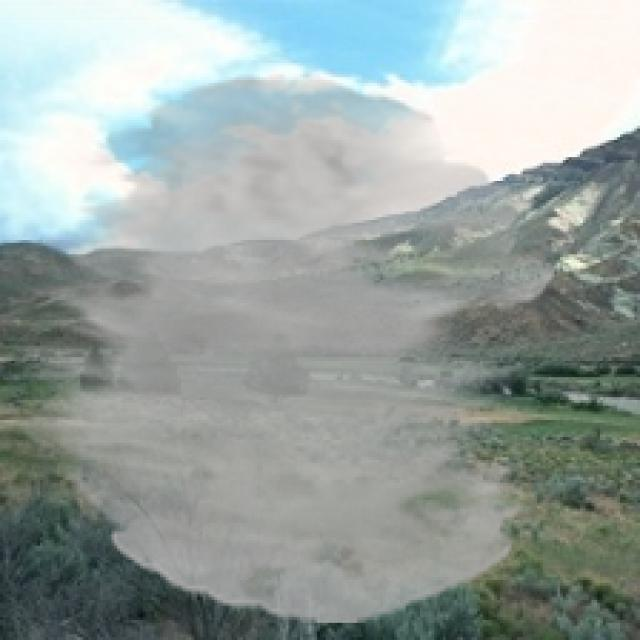Smoke: (12, 74, 554, 623)
